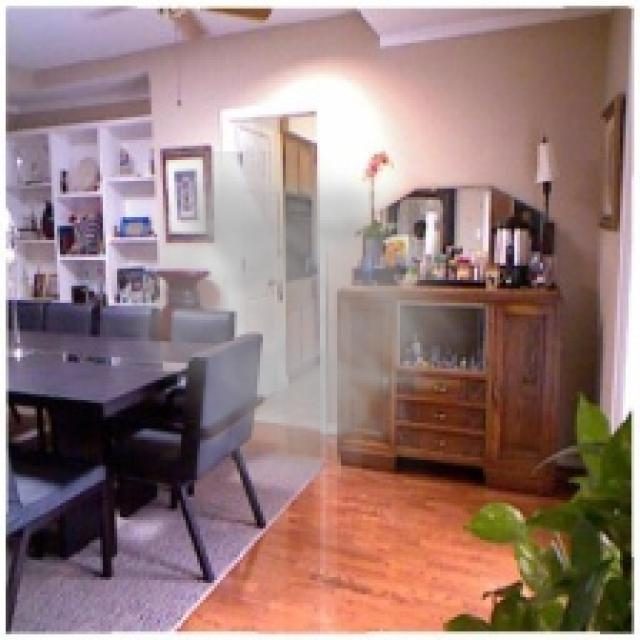Smoke: (97, 152, 486, 528)
